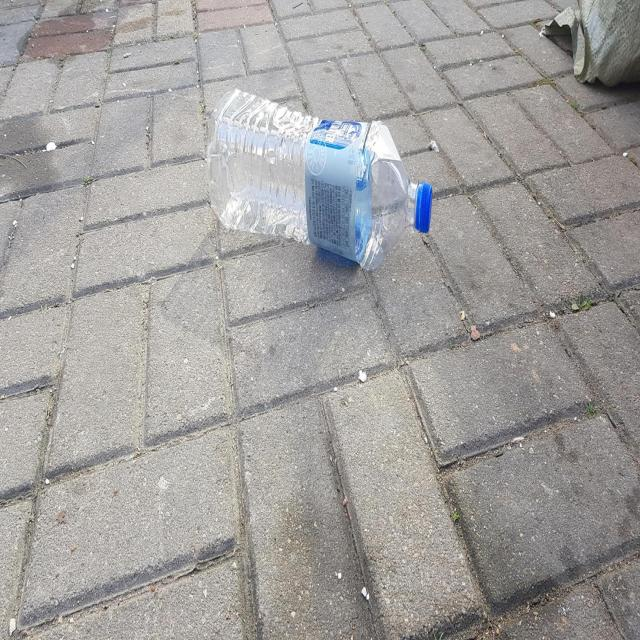plastic: (207, 87, 433, 269)
